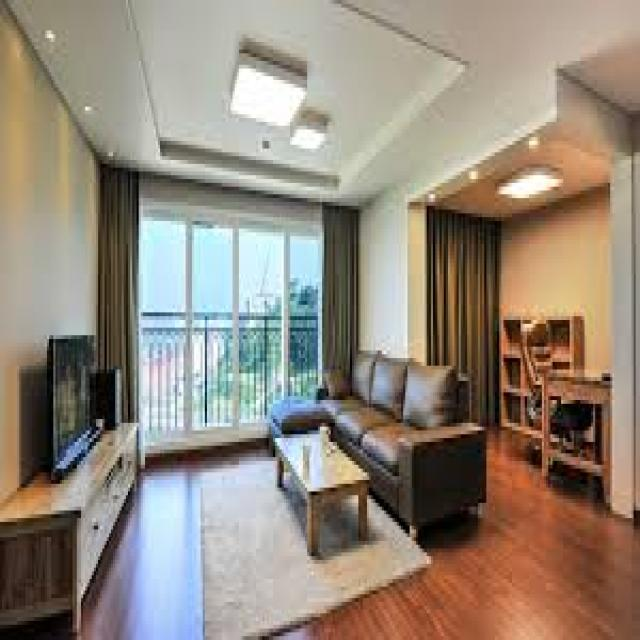Sofa: (270, 349, 485, 558)
Table: (275, 426, 373, 553)
tv: (48, 328, 103, 479)
window: (98, 172, 351, 371)
